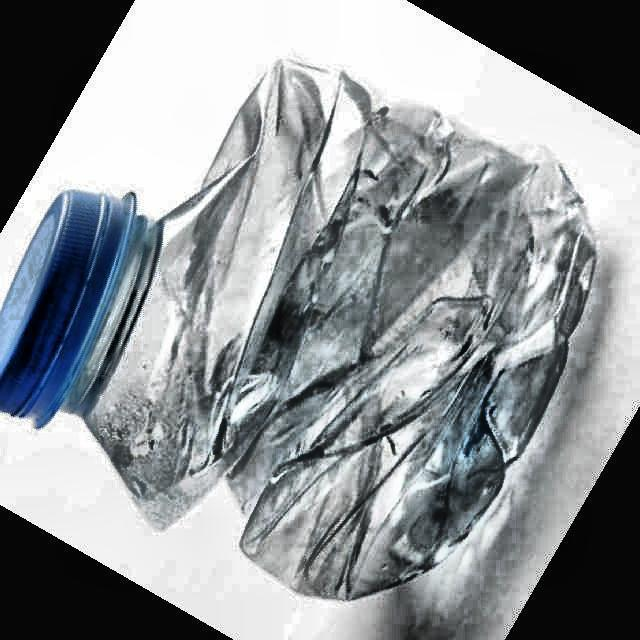plastic: (0, 62, 595, 598)
